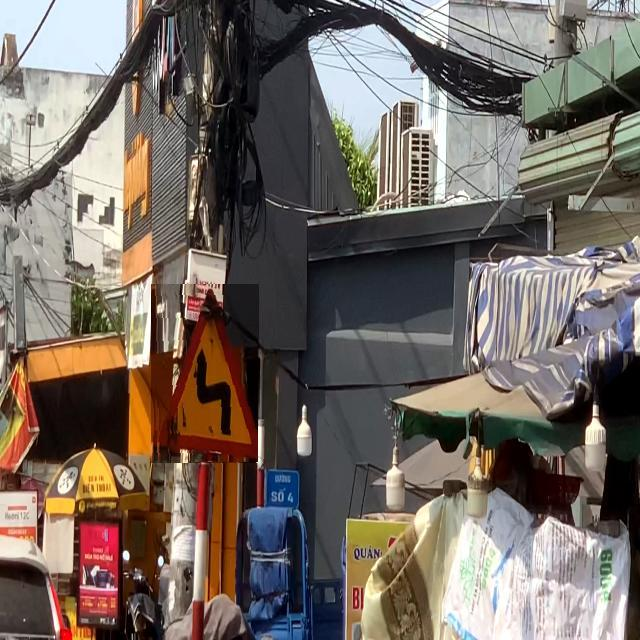W-202b: (152, 284, 260, 463)
